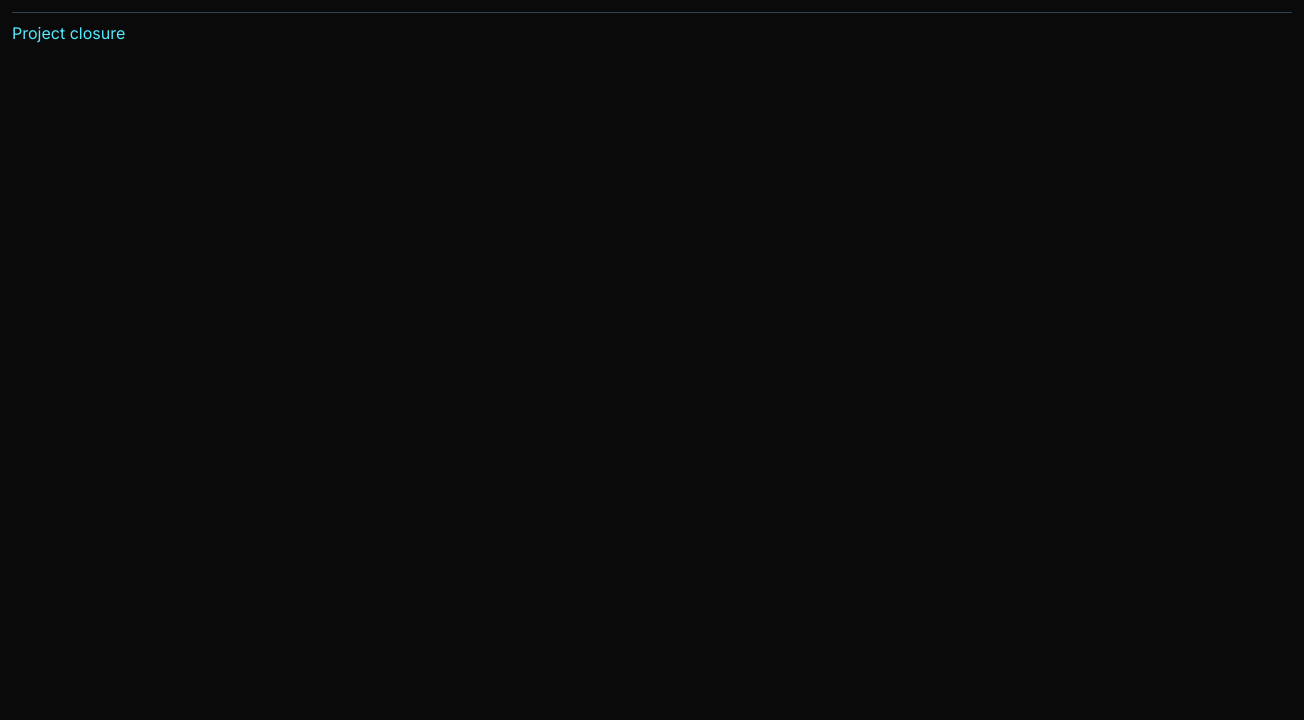
Test: submits named evidence and advances only after reloading the persisted stage
This screenshot has width=1304, height=720.
Step 1. Click the button "Project closure" → click(69, 33), box [12,21,125,45]
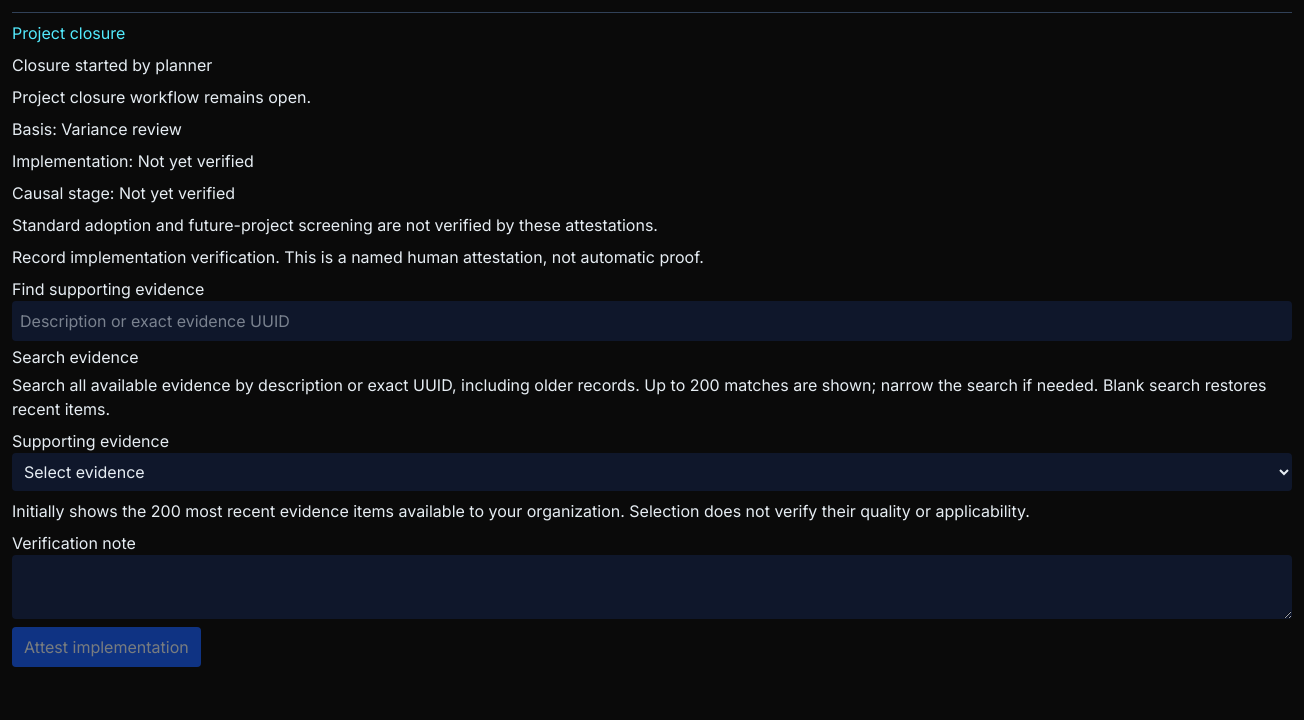
Step 2. Select "Inspection record · measured" in the dropdown labelled "Supporting evidence" → (652, 472), box [12,453,1292,491]
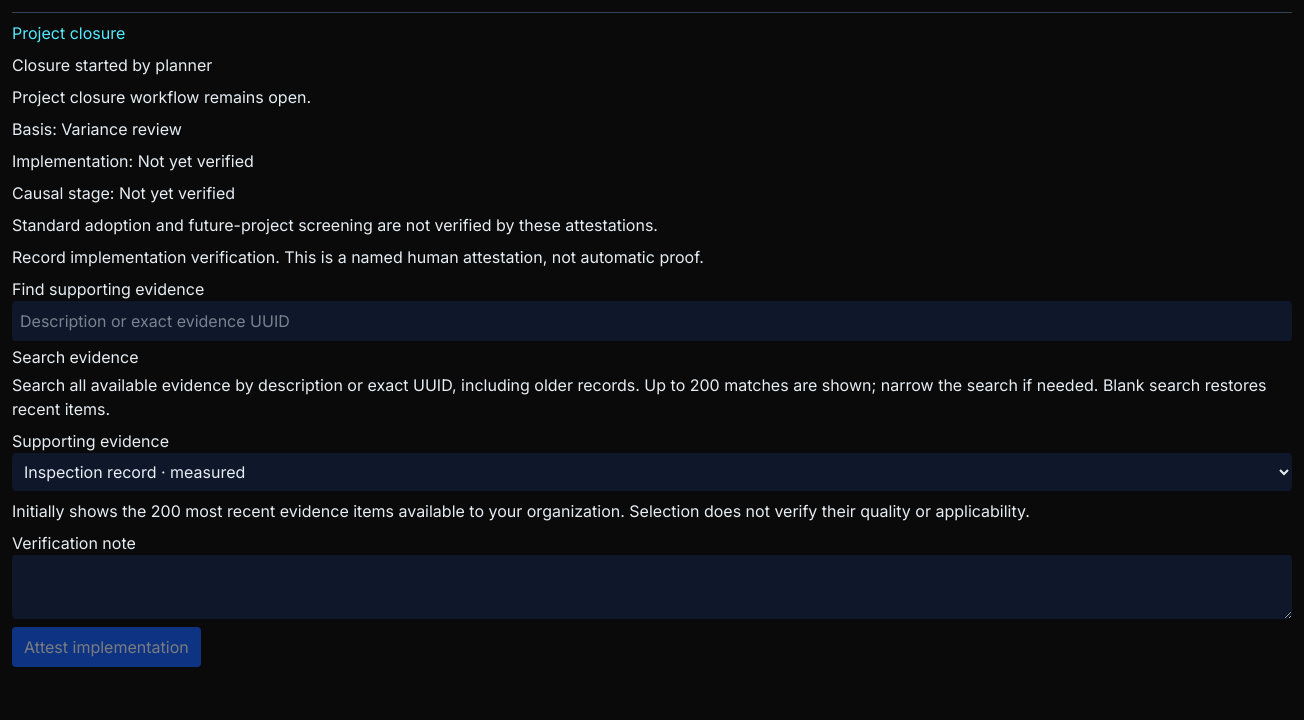
Step 3. Type "Observed implementation" into the text box labelled "Verification note" → (652, 587), box [12,555,1292,619]
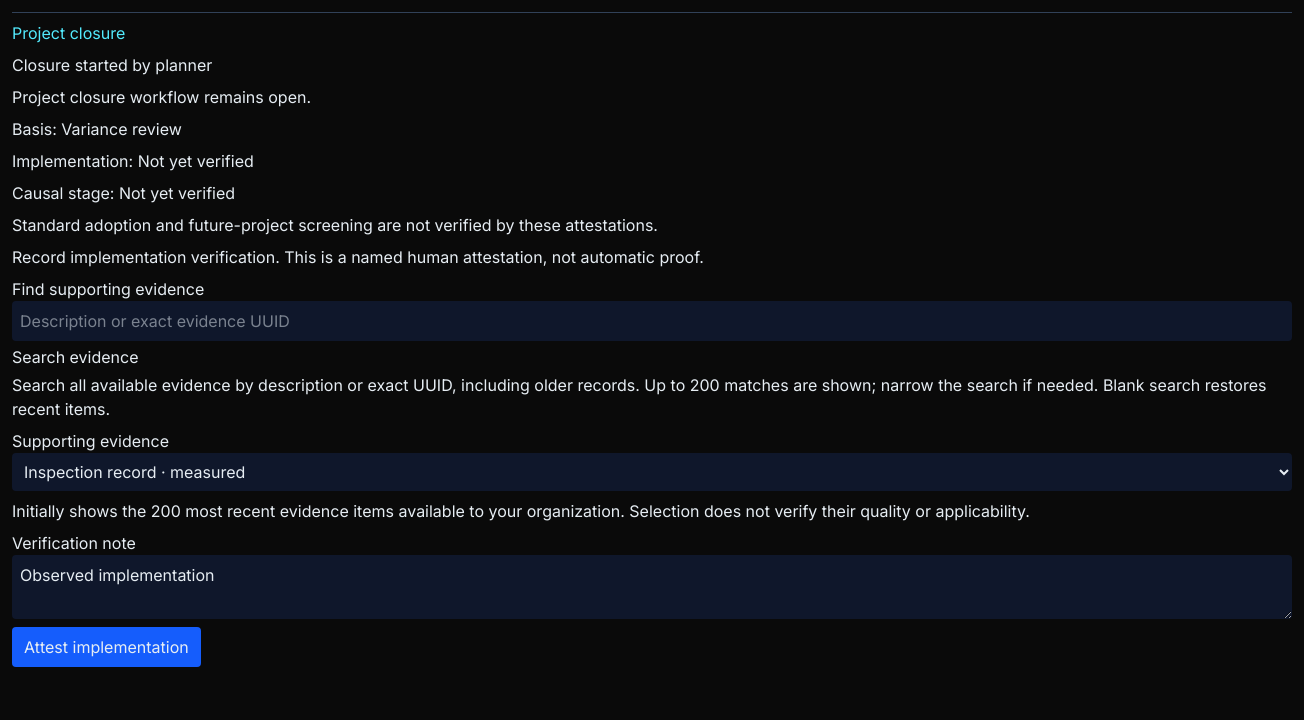
Step 4. Click the button "Attest implementation" → click(106, 647), box [12,627,201,667]
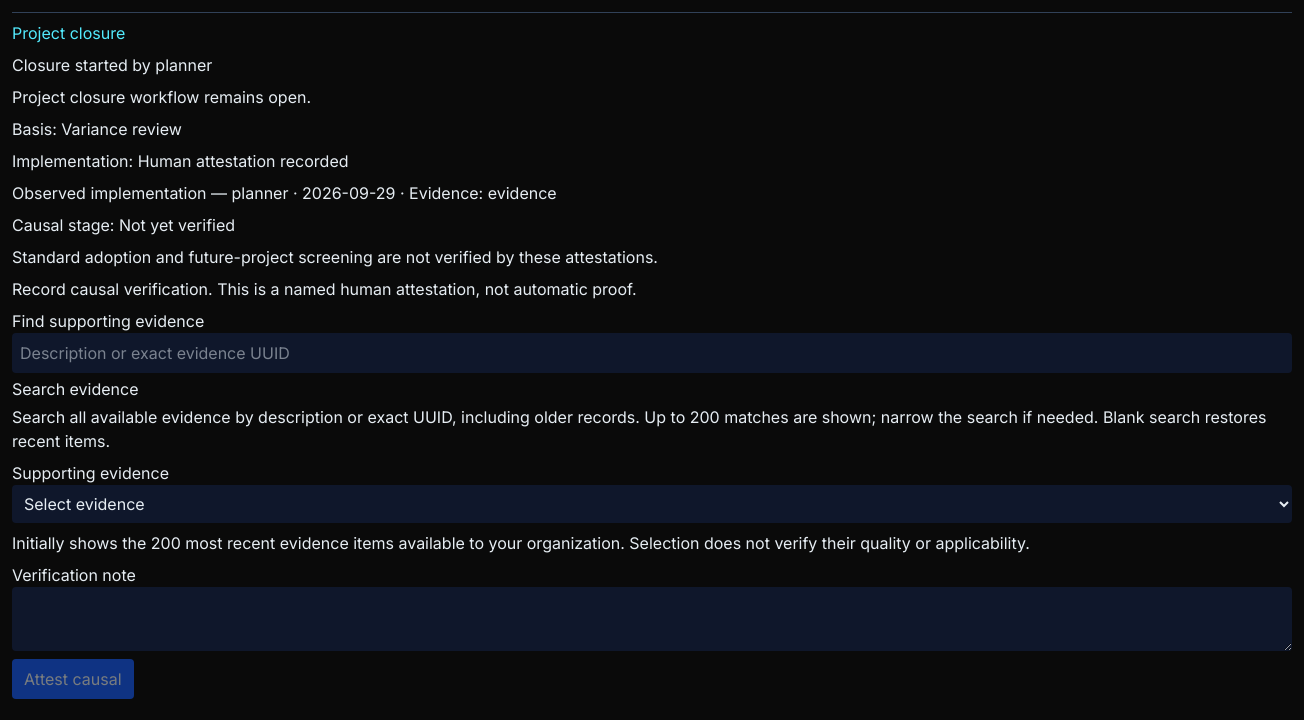
Expected: the button "Attest causal" is shown, [12,659,134,699]
